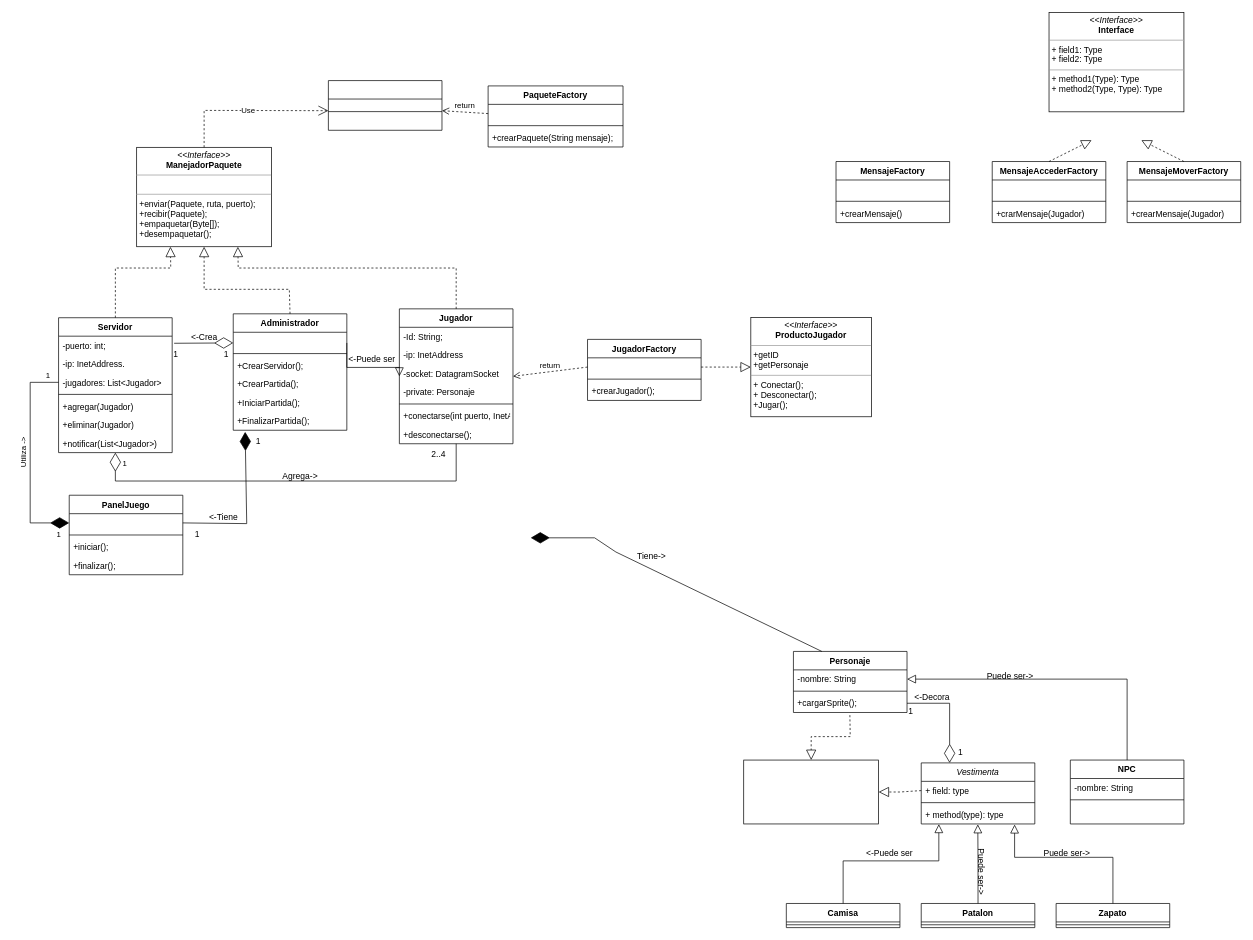
This 1253x940 diagram has some shape labels left out. Each missing label, with the centre of its shape:
<<Interface>> Persona +getNombre(): point (811, 791)
DatagramPacket: point (385, 105)
